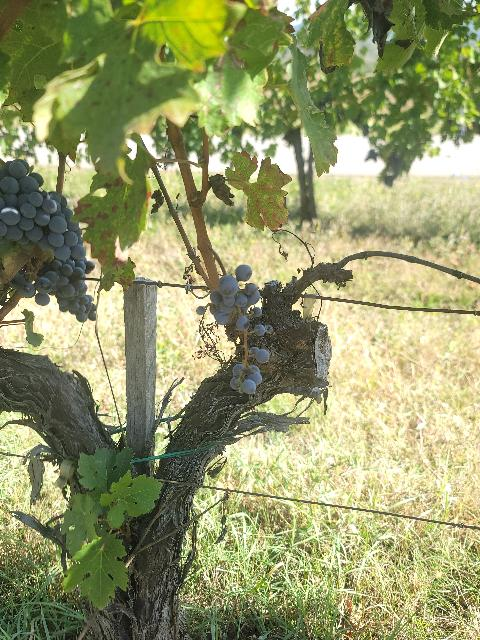grapes: (0, 159, 82, 251), (209, 265, 270, 364), (40, 259, 96, 322), (230, 364, 262, 395)
